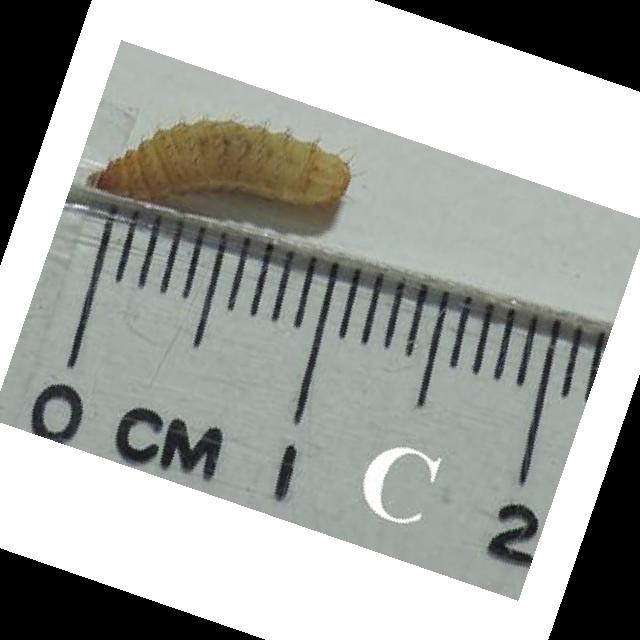Maggot: (84, 115, 354, 210)
